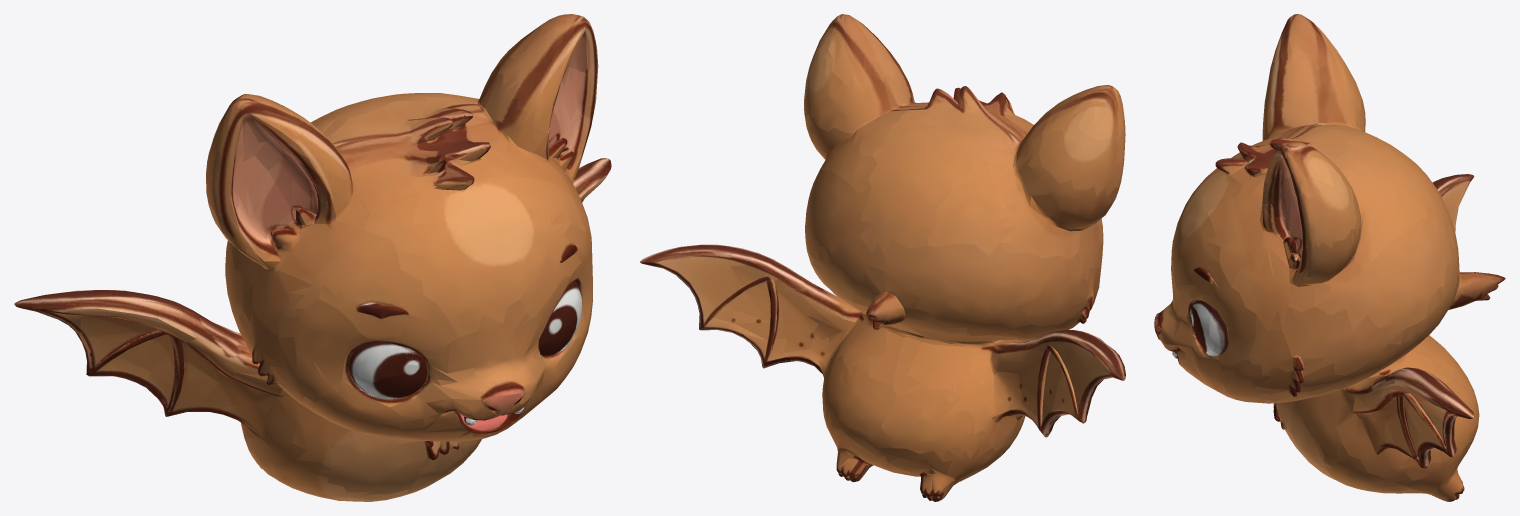
File: pet_echo.glb
3 views of the same model, side by side, from view 1: azimuth 30°, elevation 25°; view 2: azimuth 150°, elevation 25°; view 3: azimuth 270°, elevation 25° (orthographic). The views are drawn at different scales.
Size of the model in its own units: 1.9 by 1.46 by 1.17.
1 material, 1 textured.
